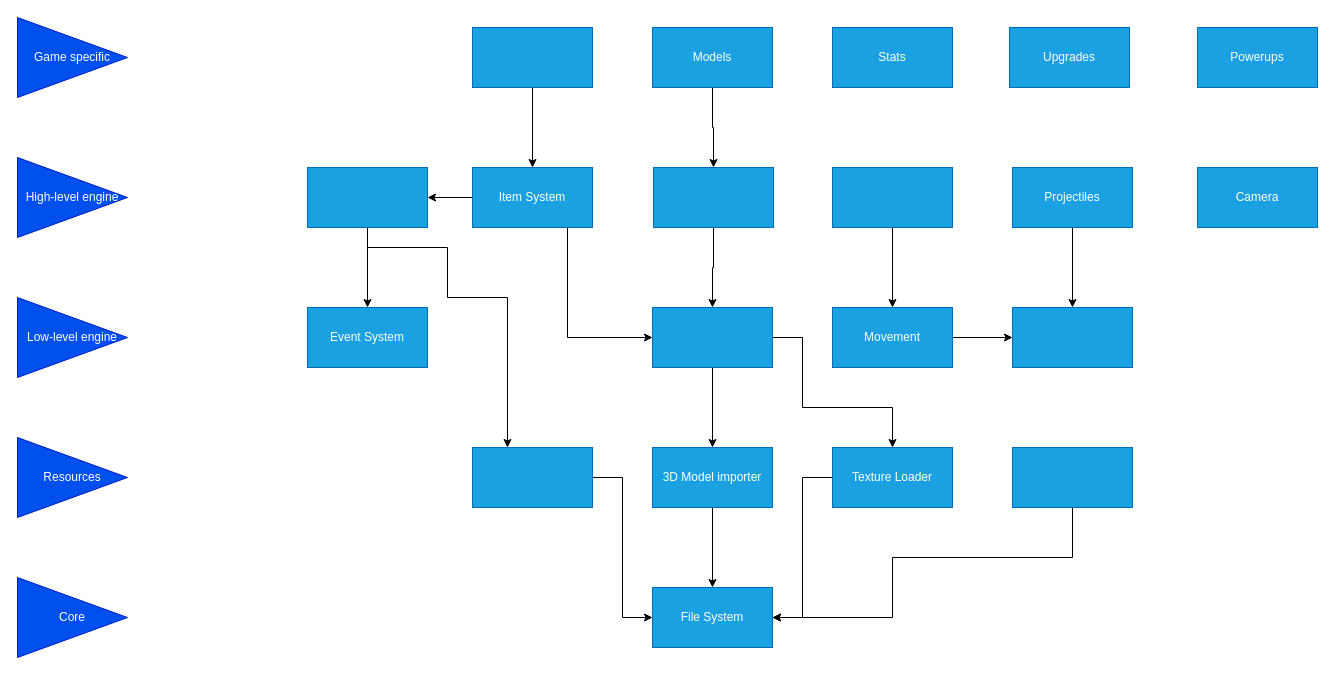
This 1335x675 diagram has some shape labels left out. Here are the shapes that lost their labels. From the top down, the box of each, then its label:
(472, 26, 592, 88): Items
(306, 166, 428, 228): Scripting System
(652, 166, 774, 228): Enemies AI
(832, 166, 952, 228): Input System
(652, 306, 772, 368): Renderer
(1012, 306, 1132, 368): Physics
(472, 446, 592, 508): Scripts Loader
(1012, 446, 1132, 508): Audio Loader
